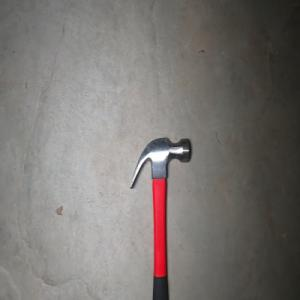Hammer: (128, 136, 191, 300)
